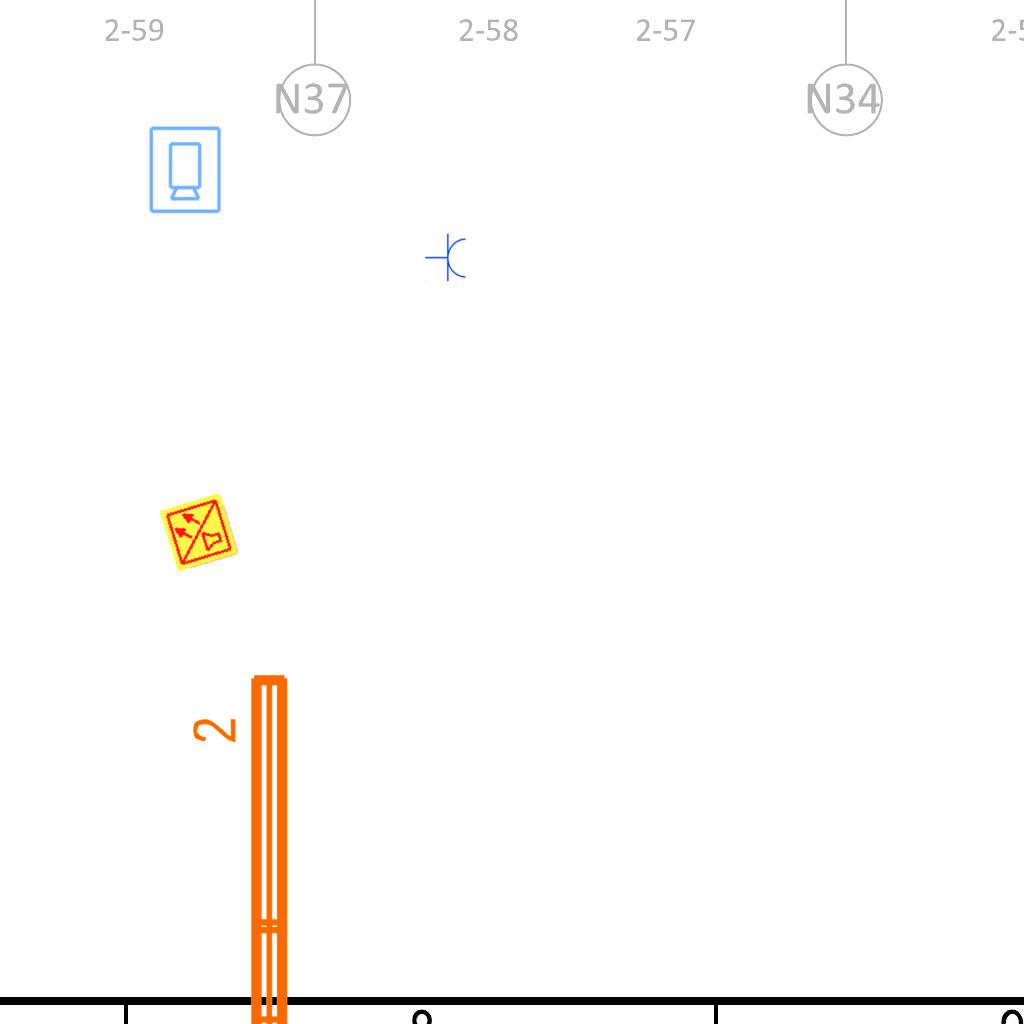Ambulanz_Pendelleuchte_LED: (188, 666, 300, 1024)
KFO_Kamera_mit_Festobjektiv: (146, 124, 223, 215)
OKW_Multisensormelder_(Kombination_optischer_Rauch-Kahlenmonoxid_Waerme-Melder): (157, 490, 241, 574)
Schukosteckdose_einfach: (425, 233, 468, 283)
